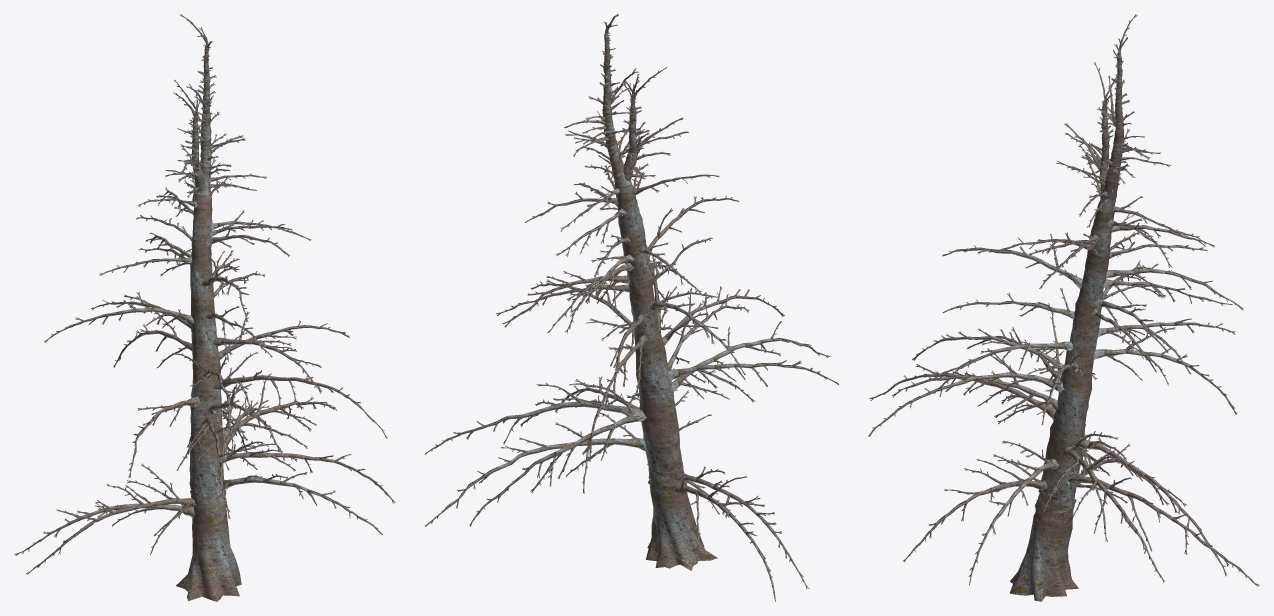
File: fir_4.obj
3 renders of one model, left to right at view 1: azimuth 30°, elevation 25°; view 2: azimuth 150°, elevation 25°; view 3: azimuth 270°, elevation 25°, orthographic. The views are drawn at different scales.
Visible parts, largest first — view 1: fir_4; view 2: fir_4; view 3: fir_4.
Part boxes in pixels (x1,y1,x2,y2): fir_4: [14, 14, 395, 601]; fir_4: [424, 14, 839, 601]; fir_4: [868, 14, 1259, 601].
Bounding box in the file's own units: 7.05 × 10.78 × 6.6.
1 material, 1 textured.
